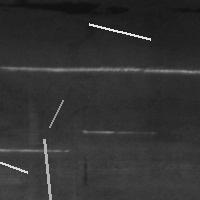scratches: (3, 61, 200, 80), (84, 19, 155, 44), (39, 134, 56, 200), (0, 150, 32, 177), (45, 95, 68, 132), (1, 144, 70, 156), (81, 126, 155, 135), (79, 152, 91, 189)
